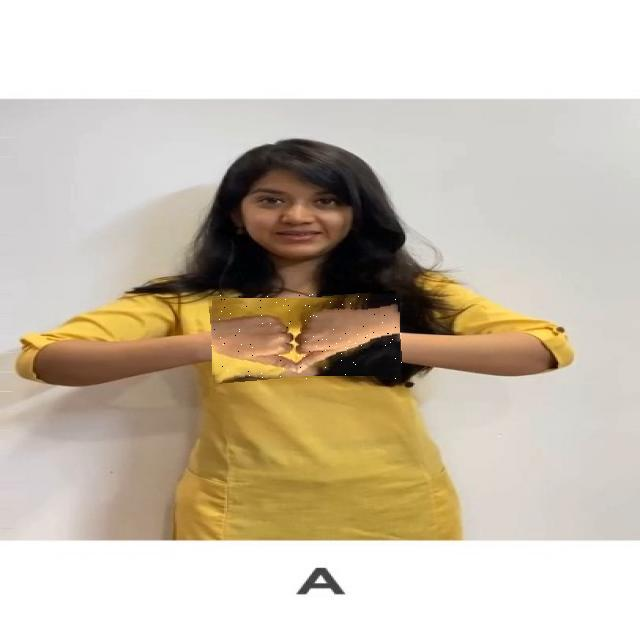A: (211, 294, 402, 380)
